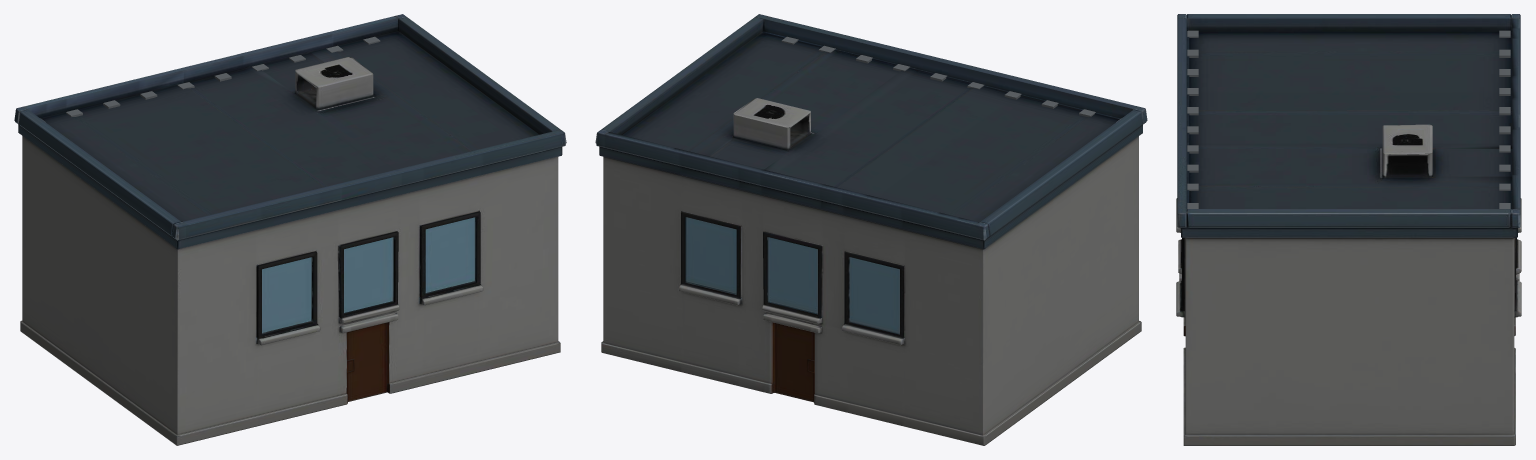
The model's file is small-office.glb.
The picture shows the model from 3 angles, left to right: view 1: azimuth 30°, elevation 25°; view 2: azimuth 150°, elevation 25°; view 3: azimuth 270°, elevation 25°; orthographic projection. The views are drawn at different scales.
Parts seen in each view (by area): view 1: Small-officeBody; view 2: Small-officeBody; view 3: Small-officeBody.
Part boxes in pixels (box(x1,y1,x2,y2)): Small-officeBody: box(14, 14, 566, 445); Small-officeBody: box(595, 14, 1147, 445); Small-officeBody: box(1176, 14, 1521, 445).
Bounding box in the file's own units: 14.5 × 8.22 × 10.5.
Materials: 1 (1 with a texture image).
